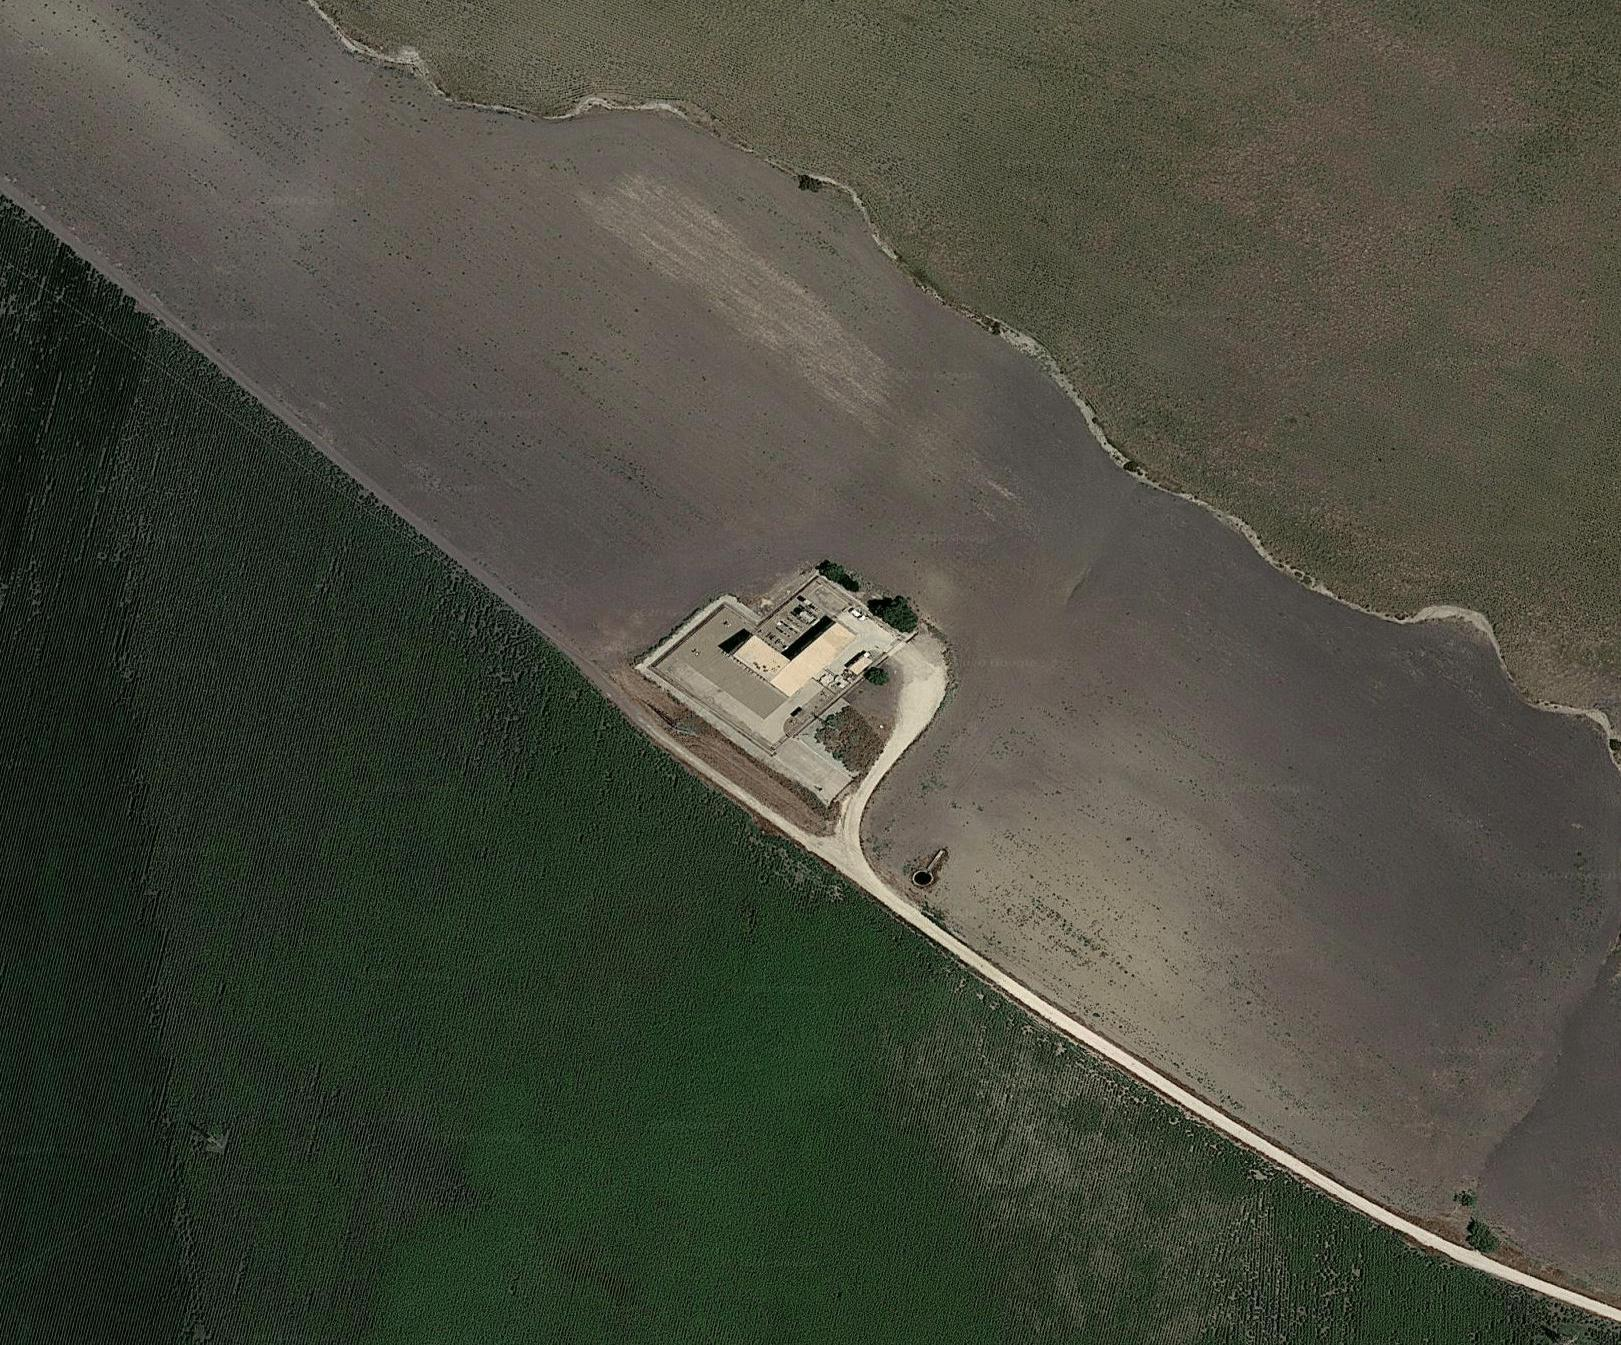substation: (754, 591, 829, 657)
